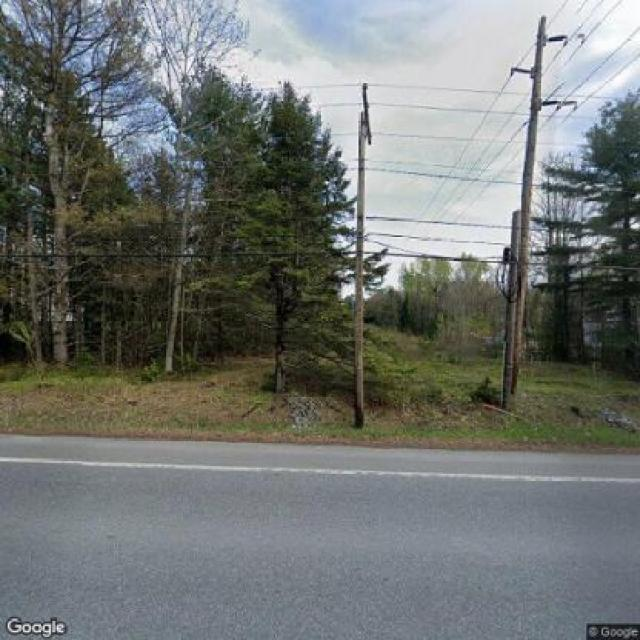pole: (492, 14, 578, 411), (345, 87, 386, 428)
